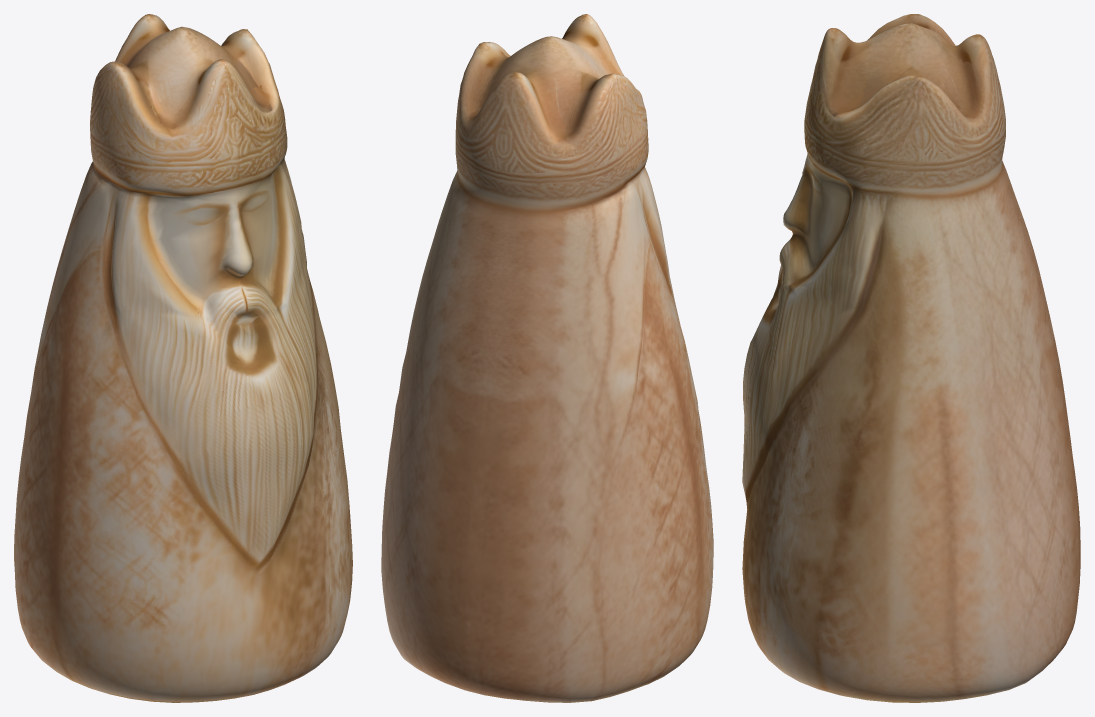
The model's file is king-piece.glb.
3 renders of one model, left to right at view 1: azimuth 30°, elevation 25°; view 2: azimuth 150°, elevation 25°; view 3: azimuth 270°, elevation 25°, orthographic. The views are drawn at different scales.
Size of the model in its own units: 0.9363 by 1.91 by 0.9459.
1 material, 1 textured.
